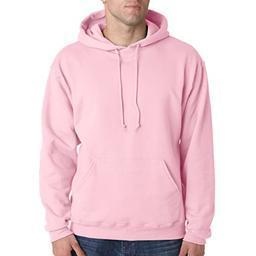sweater: (38, 8, 216, 246)
